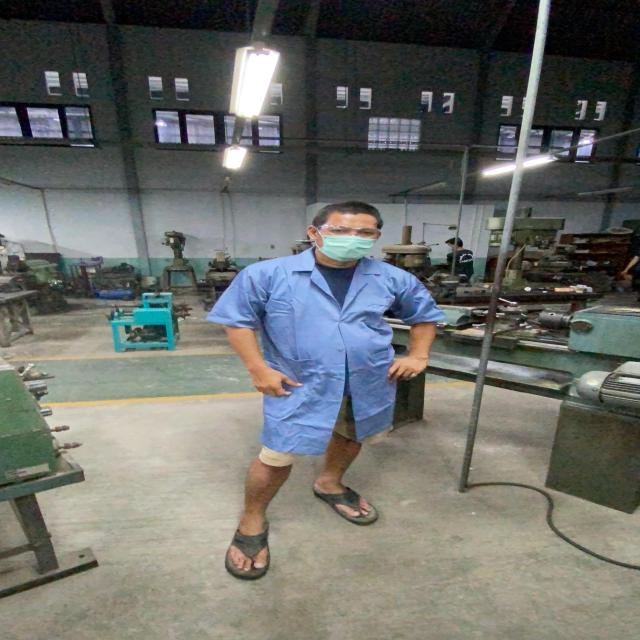face_mask: (315, 222, 383, 262)
glasses: (311, 223, 385, 242)
hand_noglove: (244, 366, 304, 399), (383, 355, 430, 383)
head_nohelmet: (312, 196, 386, 224)
person: (199, 194, 462, 594)
